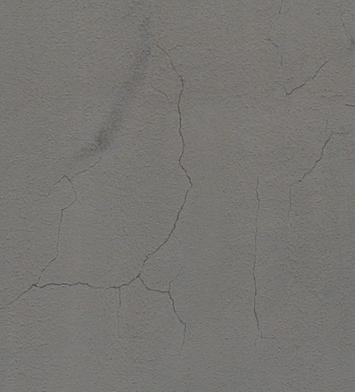fissura: (15, 47, 353, 349)
